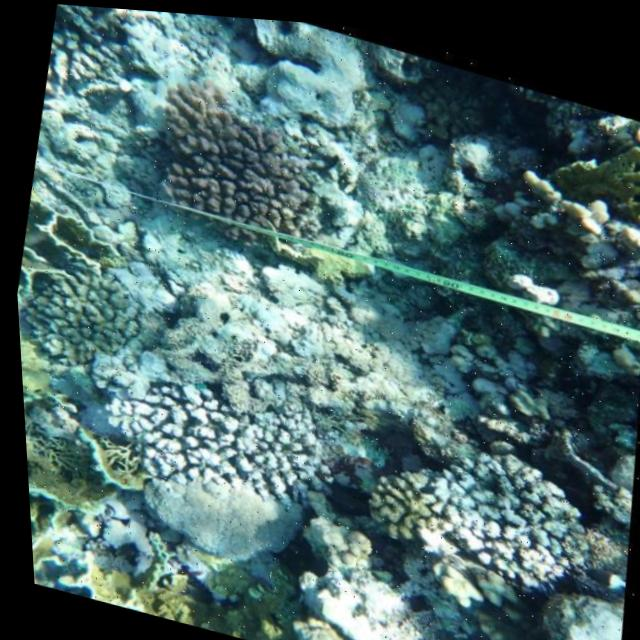Bleached Coral: (81, 341, 338, 530), (384, 410, 602, 609)
Healthy Coral: (136, 79, 354, 247)
